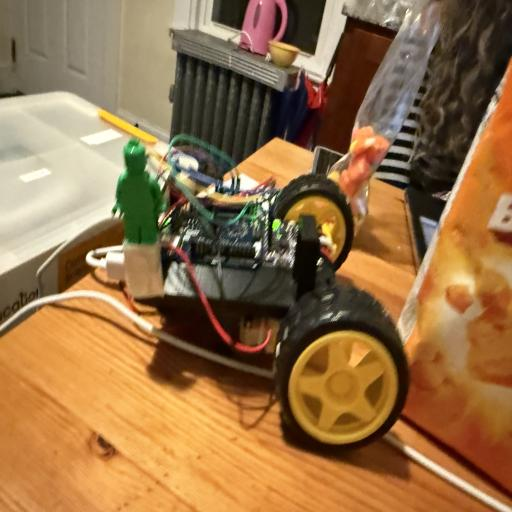Minifig: (112, 138, 165, 245)
